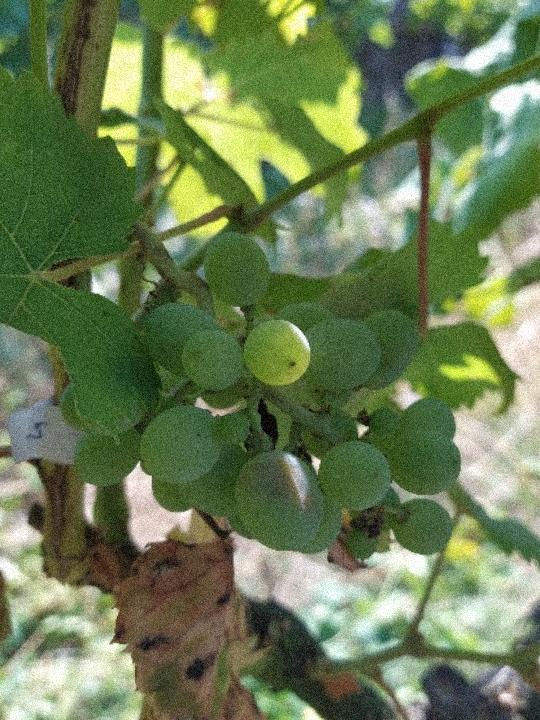grape: (60, 228, 465, 564)
